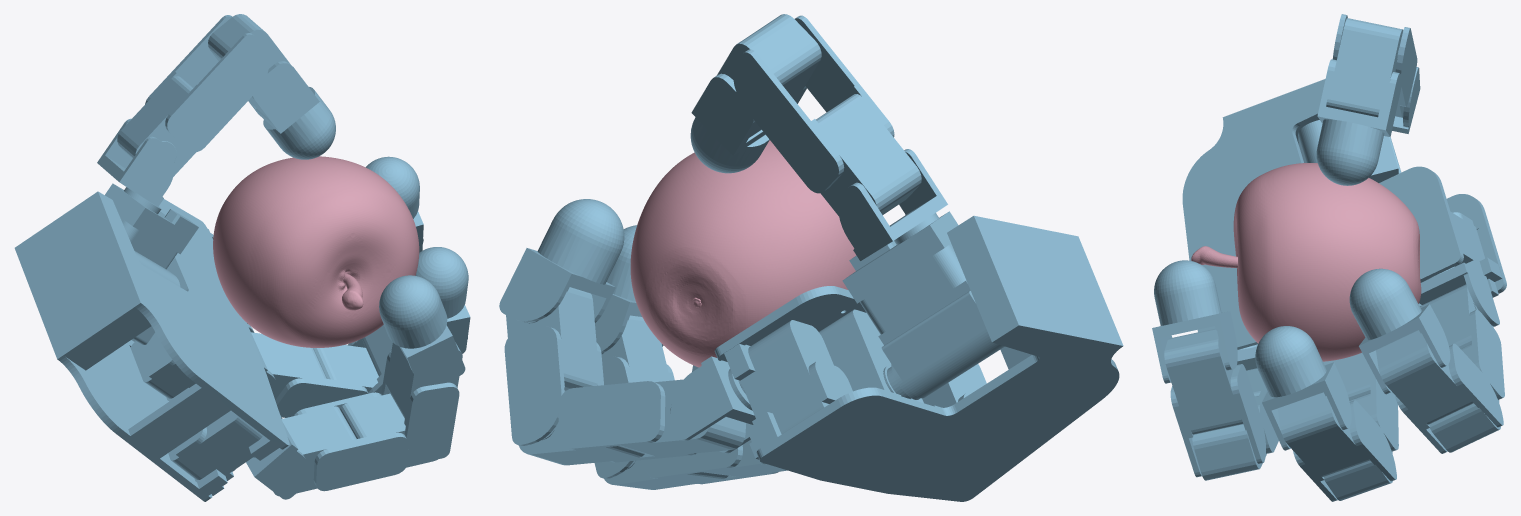
The picture shows the model from 3 angles, left to right: view 1: azimuth 30°, elevation 25°; view 2: azimuth 150°, elevation 25°; view 3: azimuth 270°, elevation 25°; orthographic projection. The views are drawn at different scales.
Visible parts, largest first — view 1: world; view 2: world; view 3: world.
Part boxes in pixels (left/top/right/bottom): world: left=14, top=14, right=470, bottom=501; world: left=499, top=14, right=1123, bottom=501; world: left=1152, top=14, right=1506, bottom=501.
Bounding box in the file's own units: 0.1907 × 0.1794 × 0.1362.
